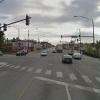Crosswalk: (5, 57, 100, 93)
